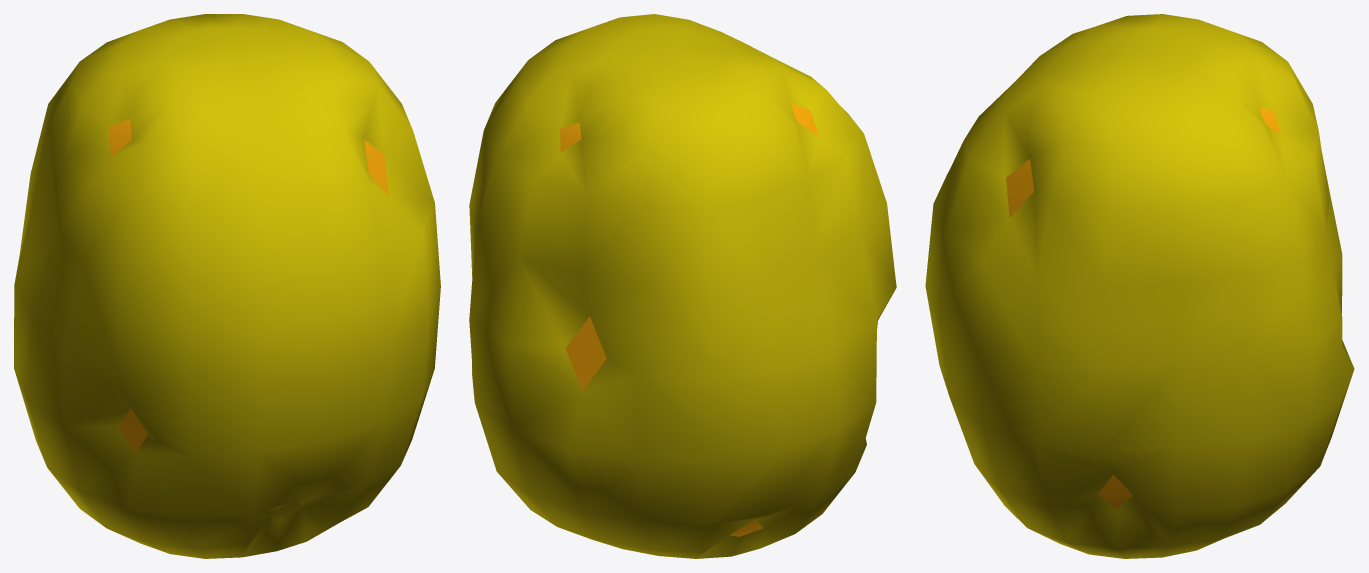
Rendered from Potato.fbx.
3 renders of one model, left to right at view 1: azimuth 30°, elevation 25°; view 2: azimuth 150°, elevation 25°; view 3: azimuth 270°, elevation 25°, orthographic.
Parts seen in each view (by area): view 1: Potato; view 2: Potato; view 3: Potato.
Boxes of the visible parts, bbox=[...] form: Potato: bbox=[14, 14, 440, 558]; Potato: bbox=[469, 14, 896, 558]; Potato: bbox=[925, 14, 1354, 558].
Bounding box in the file's own units: 62.54 × 65.89 × 81.29.
